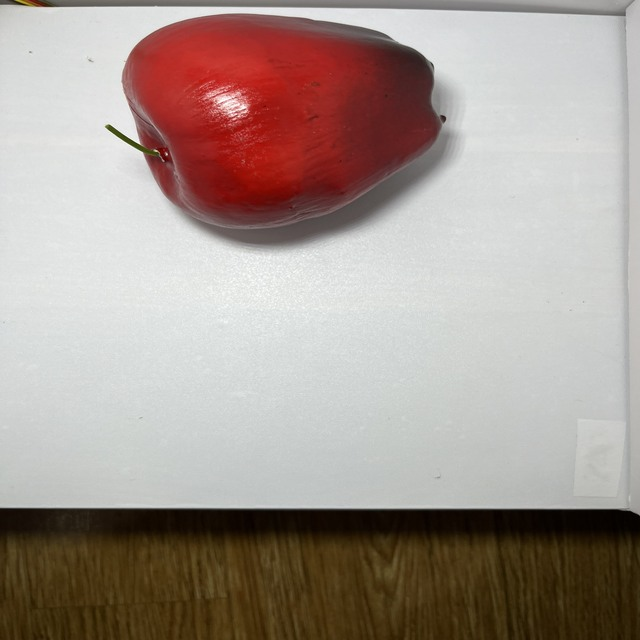Tao: (115, 6, 450, 236)
